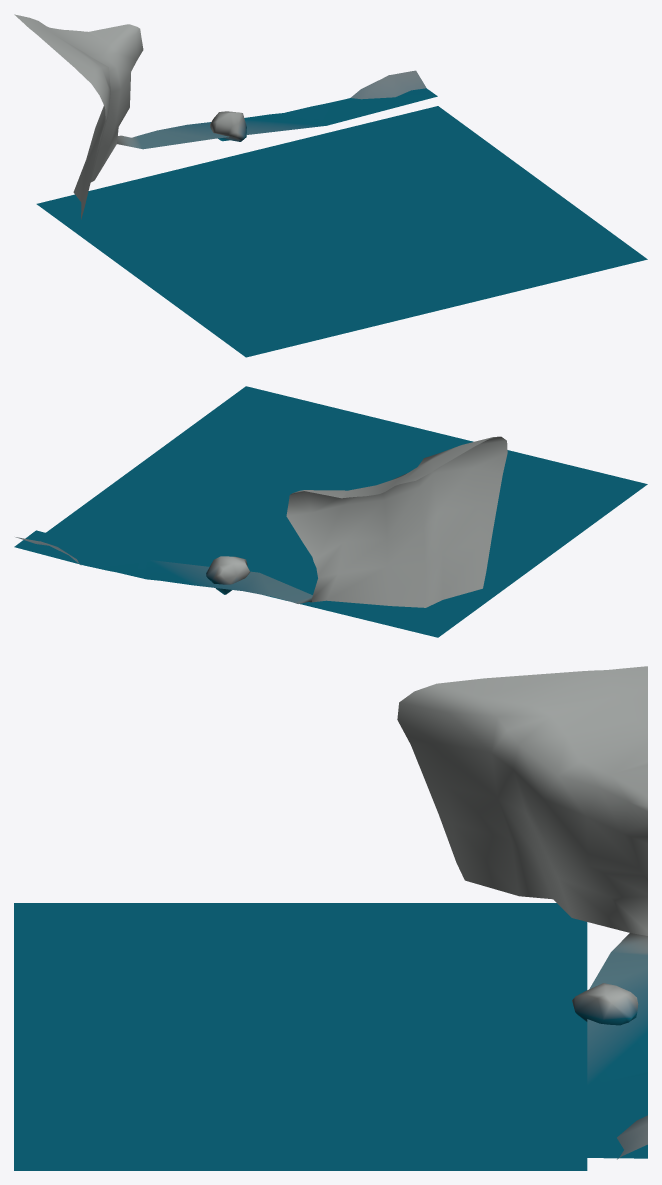
3 renders of one model, top to bottom at view 1: azimuth 30°, elevation 25°; view 2: azimuth 150°, elevation 25°; view 3: azimuth 270°, elevation 25°, orthographic. The views are drawn at different scales.
Parts seen in each view (by area): view 1: G:\FFXIV-MapTools\exports\s1f3\bg\ffxiv\sea_s1\fld\s1f3\bgpl (×8); view 2: G:\FFXIV-MapTools\exports\s1f3\bg\ffxiv\sea_s1\fld\s1f3\bgpl (×6); view 3: G:\FFXIV-MapTools\exports\s1f3\bg\ffxiv\sea_s1\fld\s1f3\bgpl (×8).
Boxes of the visible parts, box(x1,y1,x2,y2) form: G:\FFXIV-MapTools\exports\s1f3\bg\ffxiv\sea_s1\fld\s1f3\bgpl (×8): box(14, 14, 647, 357); G:\FFXIV-MapTools\exports\s1f3\bg\ffxiv\sea_s1\fld\s1f3\bgpl (×6): box(14, 386, 647, 637); G:\FFXIV-MapTools\exports\s1f3\bg\ffxiv\sea_s1\fld\s1f3\bgpl (×8): box(14, 666, 647, 1170).
Size of the model in its own units: 128 by 52.74 by 128.
